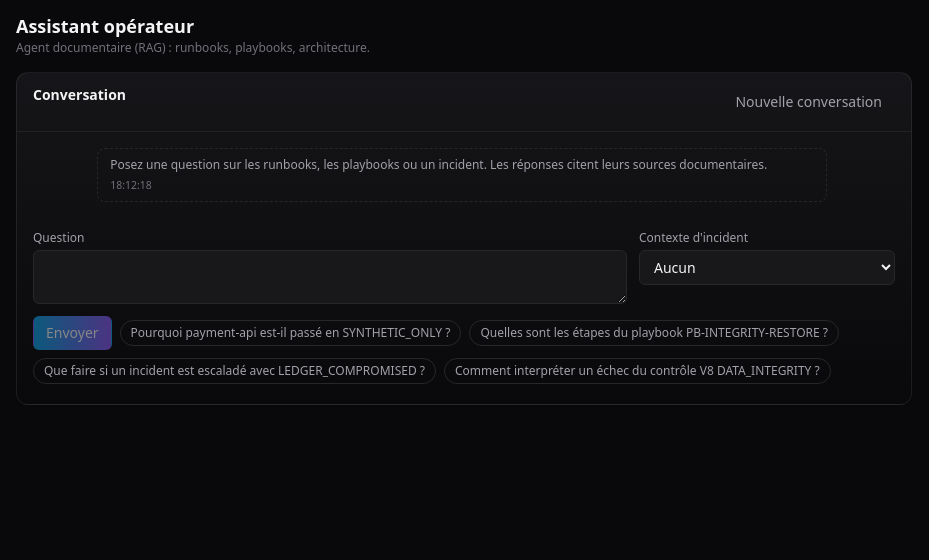
Test: AssistantPage › shows an inline message instead of crashing when the agent is unavailable
Type "test" into the text box labelled "Question".
click(330, 277); type("test")  # box [33,250,627,304]
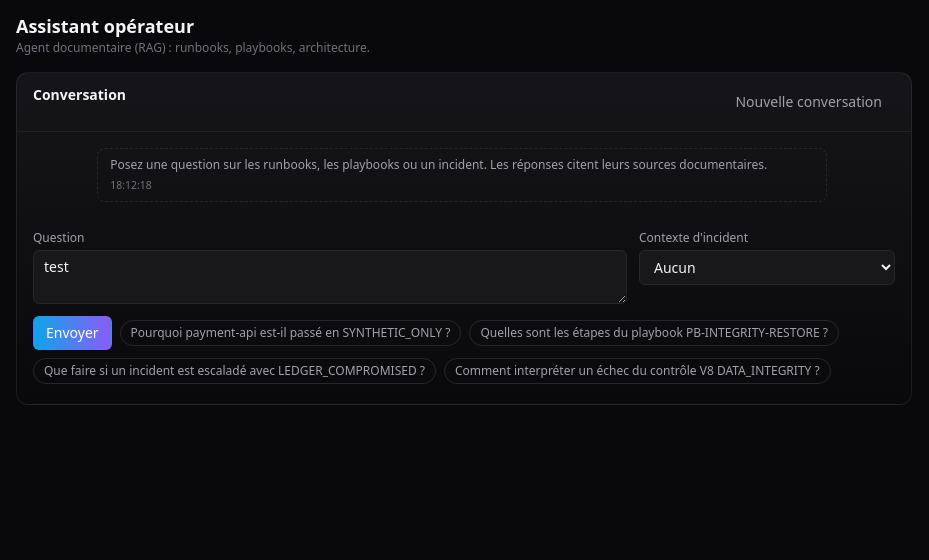
Click the button "Envoyer".
click(72, 333)  # box [33,316,112,350]
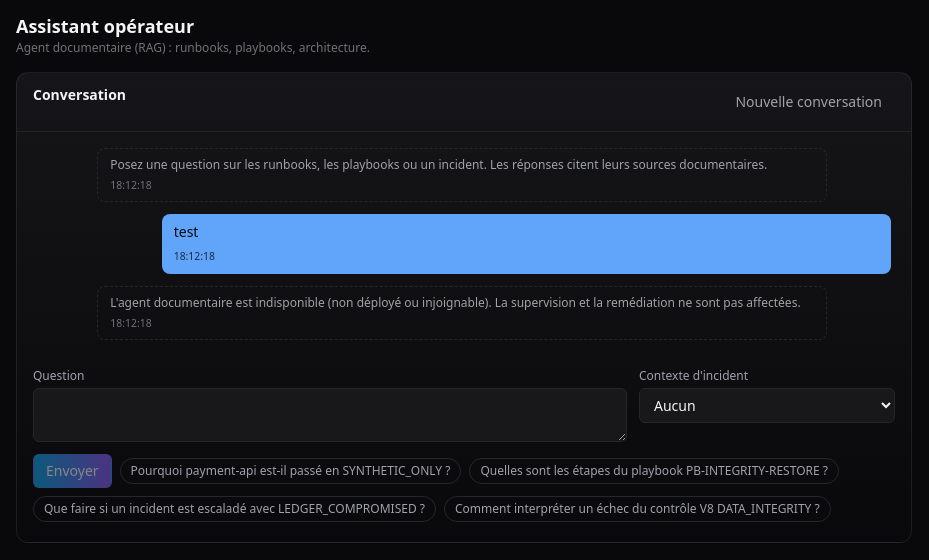
Check: the text "agent documentaire est indisponible" is shown, box [110,294,801,311]
